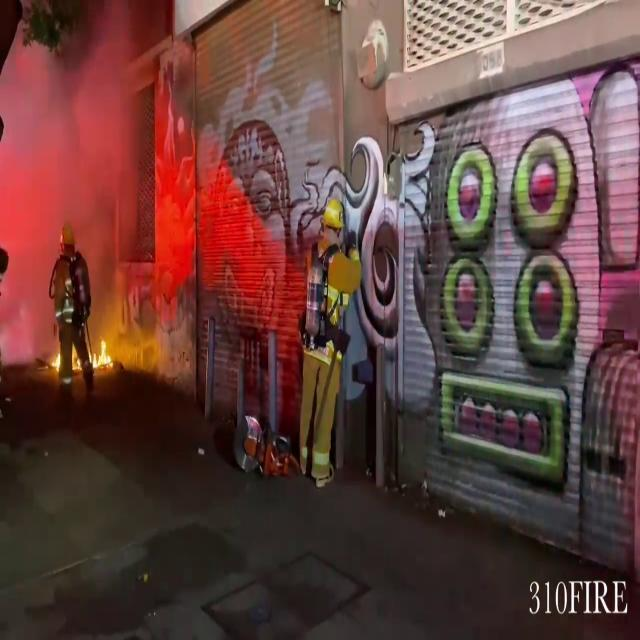Fire: (91, 338, 113, 373)
Smoke: (0, 23, 149, 329)
